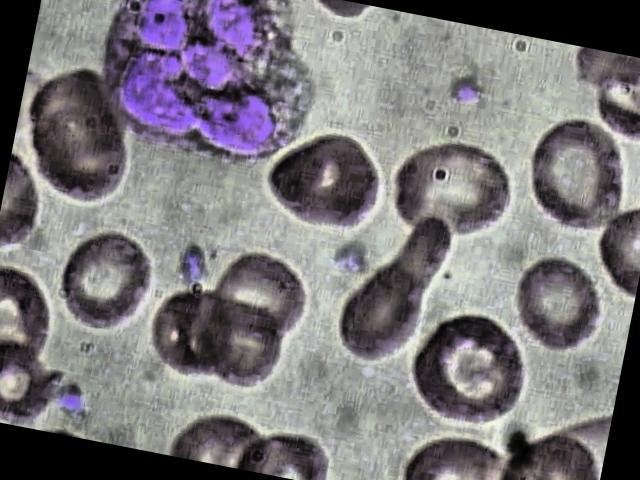Platelets: (328, 235, 377, 281), (169, 236, 211, 289), (441, 68, 490, 113), (40, 379, 90, 423)
RBC: (327, 200, 462, 376), (380, 126, 525, 258), (395, 302, 539, 434), (252, 112, 392, 245), (37, 214, 168, 344), (509, 106, 638, 238), (17, 56, 143, 178), (501, 250, 611, 366), (20, 110, 138, 213), (208, 245, 316, 352), (141, 280, 249, 387), (196, 311, 293, 404), (390, 422, 527, 480), (0, 333, 67, 431)
WBC: (93, 0, 352, 185)
